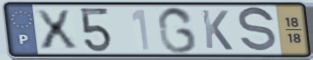1: (130, 9, 152, 52)
5: (77, 6, 113, 54)
G: (156, 5, 199, 55)
K: (199, 8, 235, 52)
S: (237, 5, 279, 55)
X: (32, 8, 80, 51)
